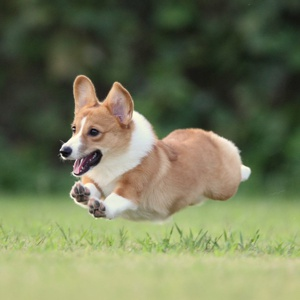dog: (42, 61, 268, 237)
